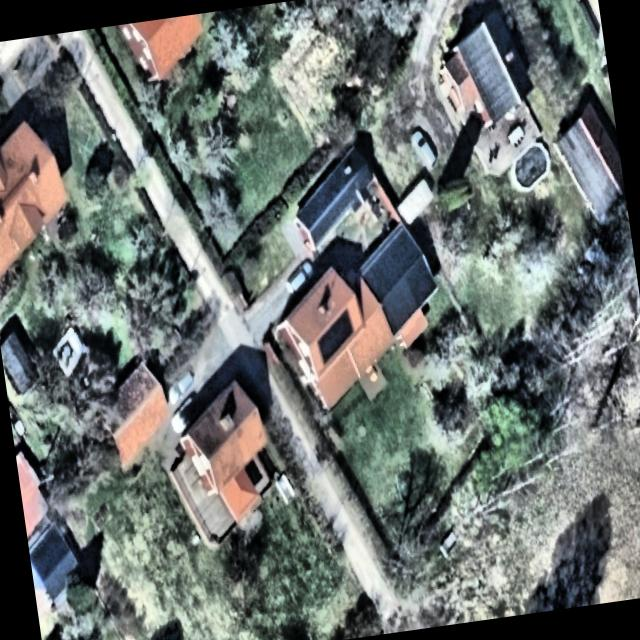roof_pv: (332, 304, 357, 358), (312, 321, 340, 369)
